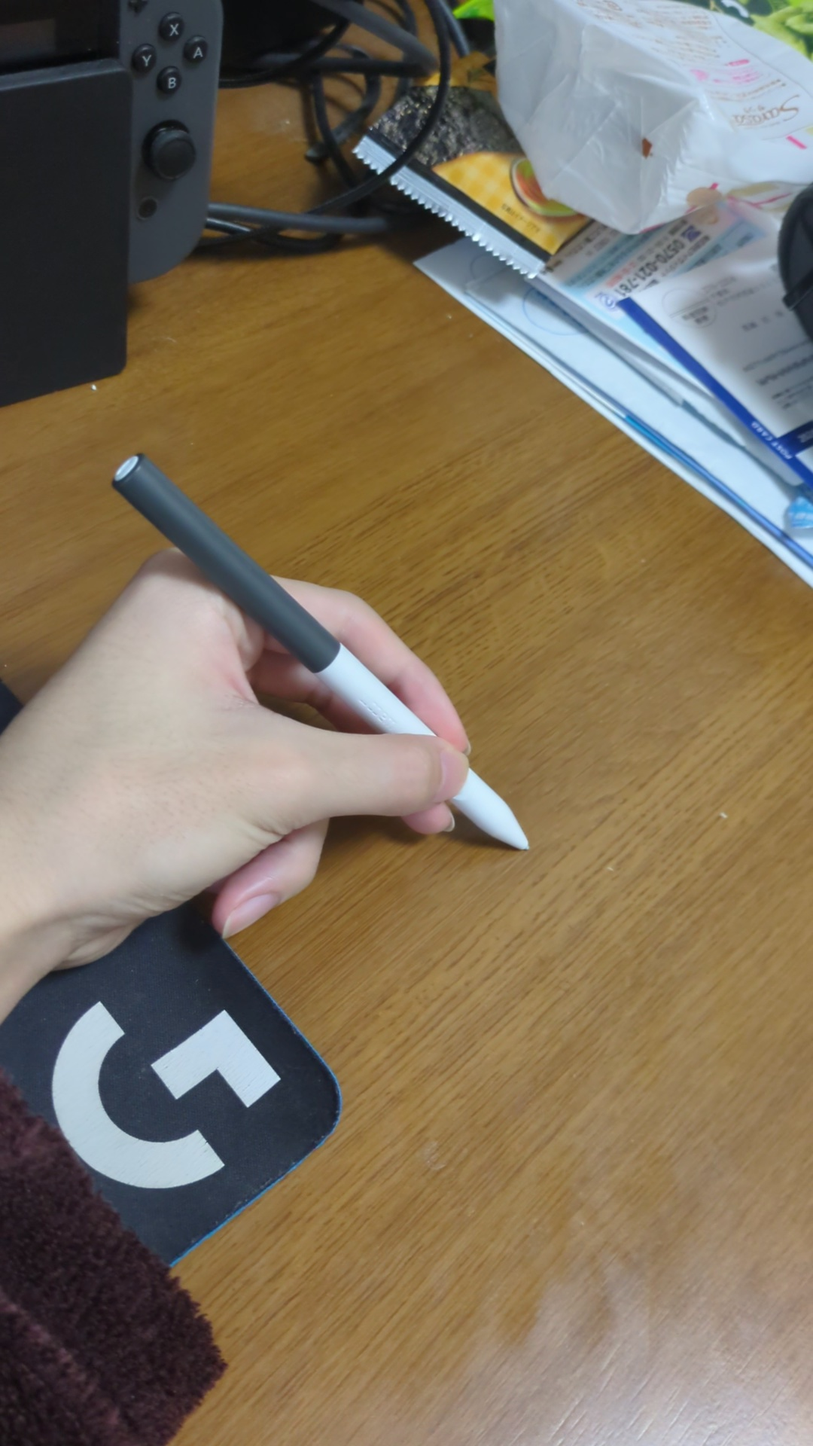pen: (108, 450, 539, 862)
tip: (507, 822, 541, 857)
